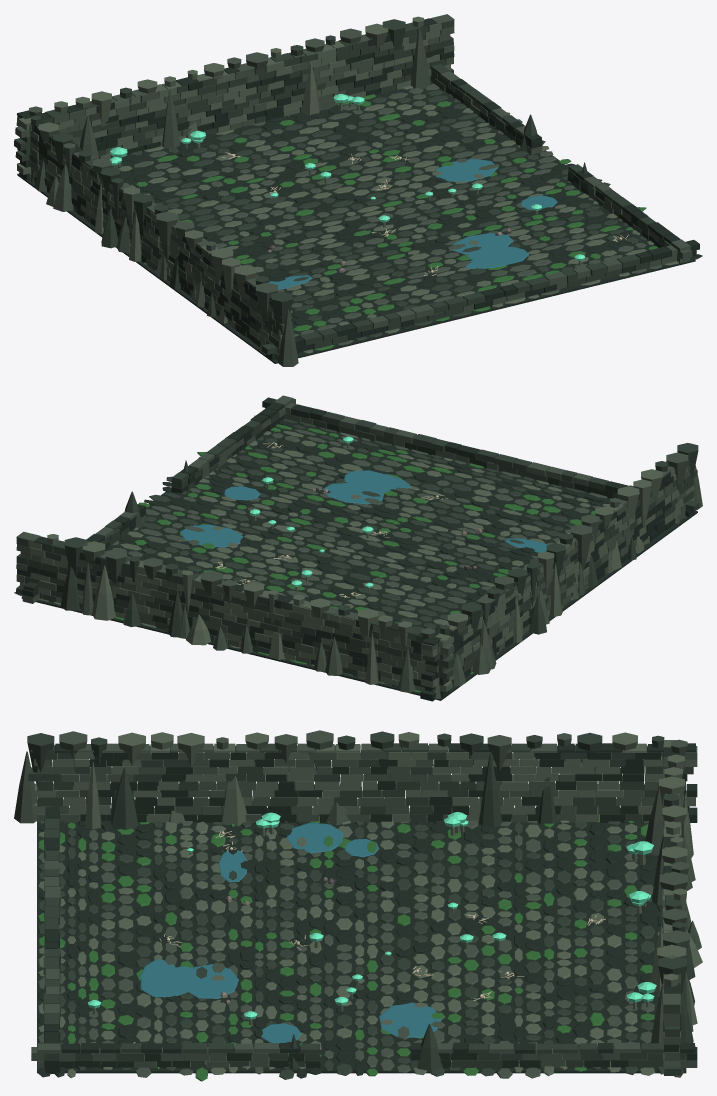
File: stage.glb
3 renders of one model, top to bottom at view 1: azimuth 30°, elevation 25°; view 2: azimuth 150°, elevation 25°; view 3: azimuth 270°, elevation 25°, orthographic. The views are drawn at different scales.
Visible parts, largest first — view 1: stage_floor, stage_walls, stage_props; view 2: stage_floor, stage_walls, stage_props; view 3: stage_floor, stage_walls, stage_props.
Part boxes in pixels (left/top/right/bottom): stage_floor: left=17, top=81, right=702, bottom=363; stage_walls: left=14, top=14, right=699, bottom=366; stage_props: left=109, top=93, right=628, bottom=275; stage_floor: left=14, top=415, right=697, bottom=700; stage_walls: left=16, top=395, right=702, bottom=701; stage_props: left=124, top=436, right=569, bottom=597; stage_floor: left=37, top=814, right=686, bottom=1081; stage_walls: left=14, top=730, right=702, bottom=1075; stage_props: left=87, top=812, right=656, bottom=1071.
Bounding box in the file's own units: 34.52 × 4.72 × 36.5.
